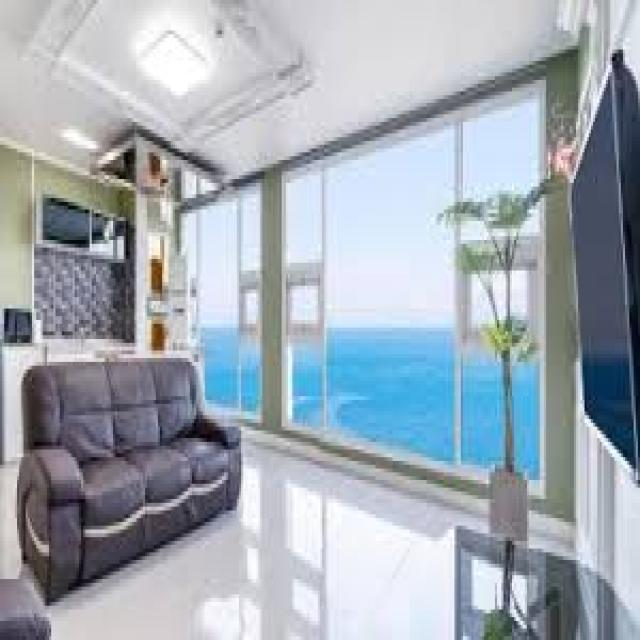Sofa: (20, 356, 240, 576)
tv: (560, 68, 639, 484)
window: (284, 155, 537, 472), (182, 202, 258, 406)
